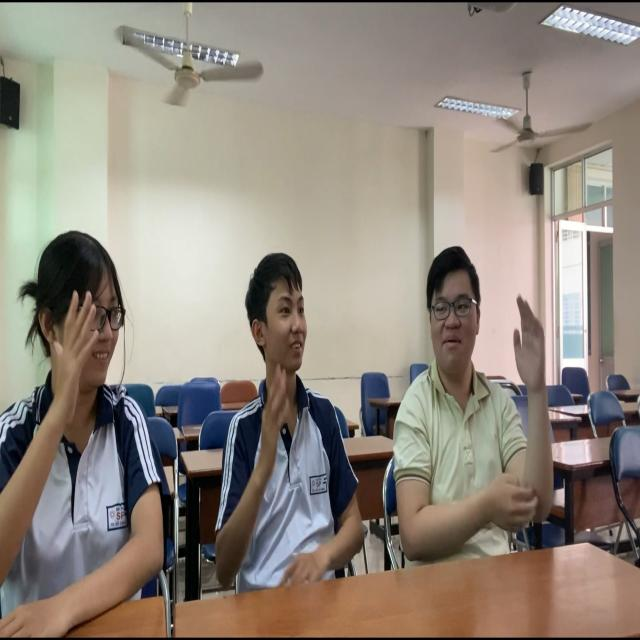raise_hand: (411, 245, 562, 574)
